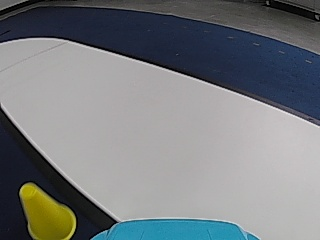cone: (20, 183, 74, 238)
